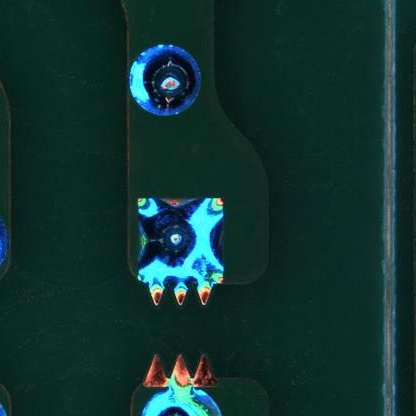spot: (135, 196, 225, 305), (128, 41, 204, 119), (138, 386, 225, 416)
